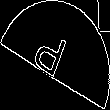P_SW: (34, 24, 76, 86)
